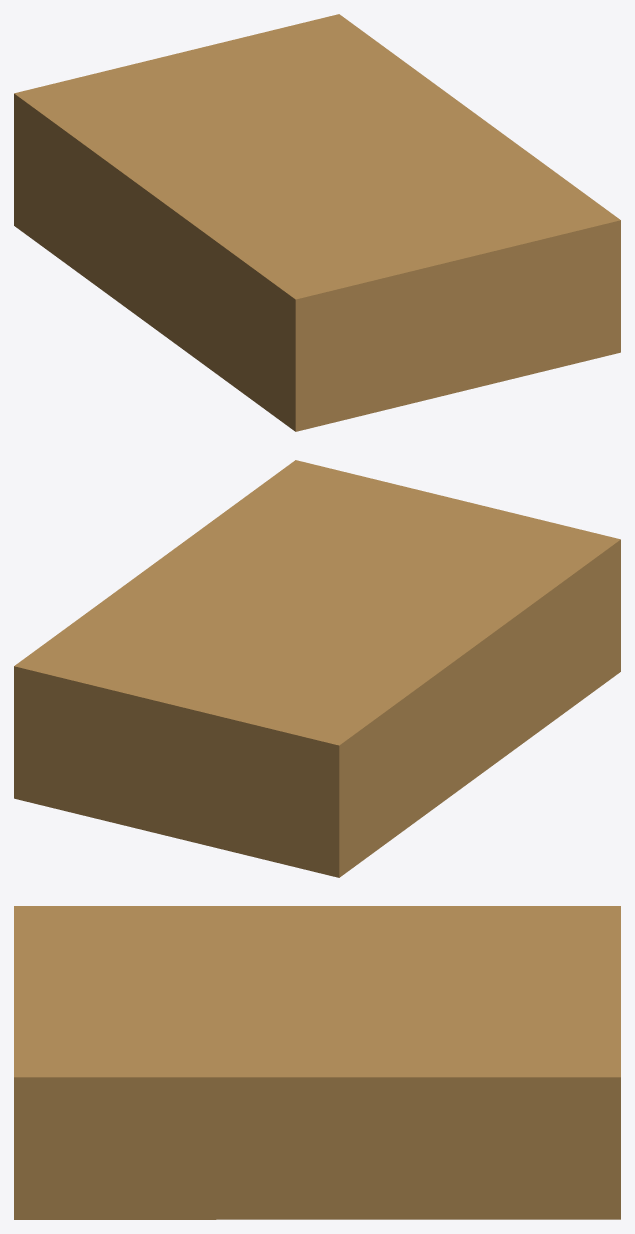
3 views of the same model, one above another, from view 1: azimuth 30°, elevation 25°; view 2: azimuth 150°, elevation 25°; view 3: azimuth 270°, elevation 25° (orthographic). The views are drawn at different scales.
Visible parts, largest first — view 1: RUN-068-S02-ribbon; view 2: RUN-068-S02-ribbon; view 3: RUN-068-S02-ribbon.
Boxes of the visible parts, <box> form: RUN-068-S02-ribbon: <box>14,14,620,431</box>; RUN-068-S02-ribbon: <box>14,460,620,877</box>; RUN-068-S02-ribbon: <box>14,906,620,1219</box>.
Size of the model in its own units: 0.09 by 0.035 by 0.135.
